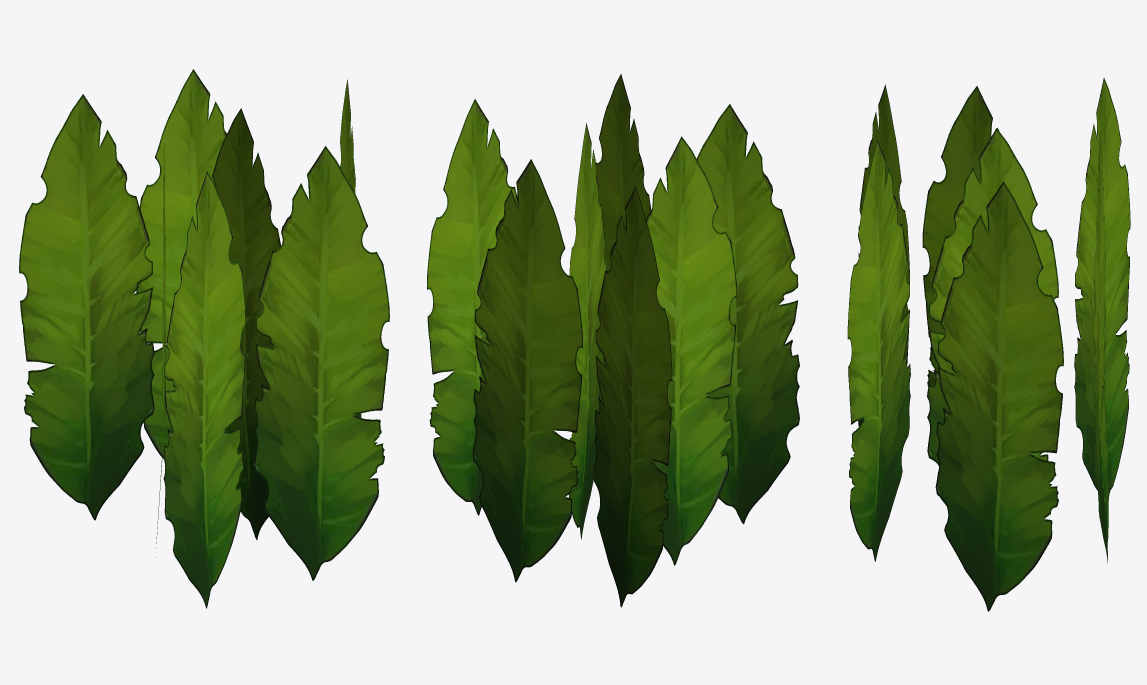
Rendered from Hemp_40.fbx.
3 views of the same model, side by side, from view 1: azimuth 30°, elevation 25°; view 2: azimuth 150°, elevation 25°; view 3: azimuth 270°, elevation 25° (orthographic).
Parts seen in each view (by area): view 1: Hemp_40; view 2: Hemp_40; view 3: Hemp_40.
Part boxes in pixels (x1,y1,x2,y2): Hemp_40: [19, 69, 389, 608]; Hemp_40: [427, 74, 799, 607]; Hemp_40: [847, 78, 1130, 611].
Size of the model in its own units: 108 by 184 by 92.63.
